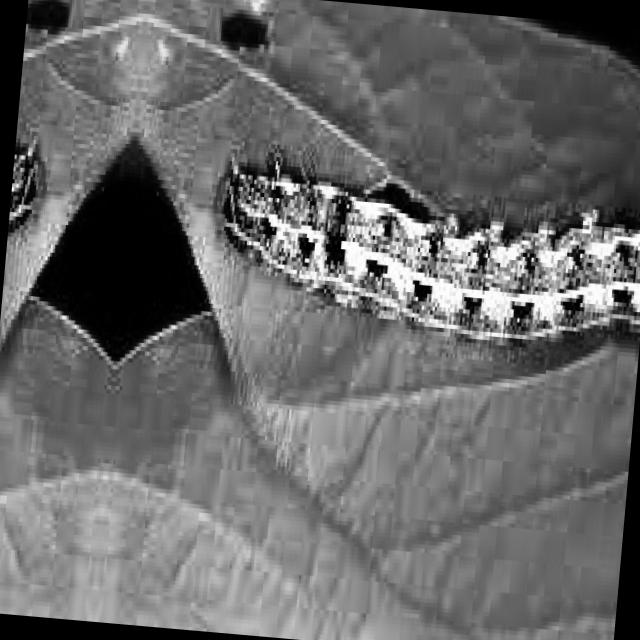Armyworm: (202, 102, 640, 431), (5, 121, 49, 262)
Armyworm_damage: (178, 1, 291, 70), (23, 1, 84, 56)
